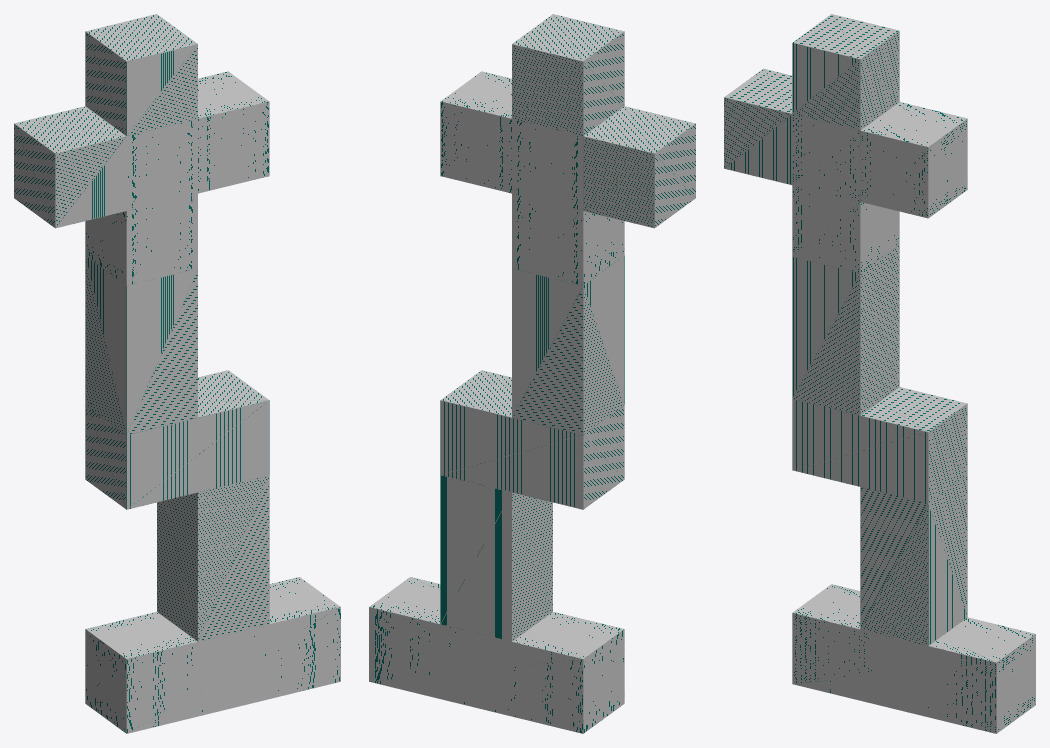
The model's file is flower-03.fbx.
The picture shows the model from 3 angles, left to right: view 1: azimuth 30°, elevation 25°; view 2: azimuth 150°, elevation 25°; view 3: azimuth 330°, elevation 25°; orthographic projection. The views are drawn at different scales.
Visible parts, largest first — view 1: generated; view 2: generated; view 3: generated.
Part boxes in pixels (left/top/right/bottom): generated: left=14, top=14, right=340, bottom=733; generated: left=369, top=14, right=695, bottom=733; generated: left=724, top=14, right=1035, bottom=733.
Size of the model in its own units: 40 by 90 by 10.
Materials: 1 (1 with a texture image).
